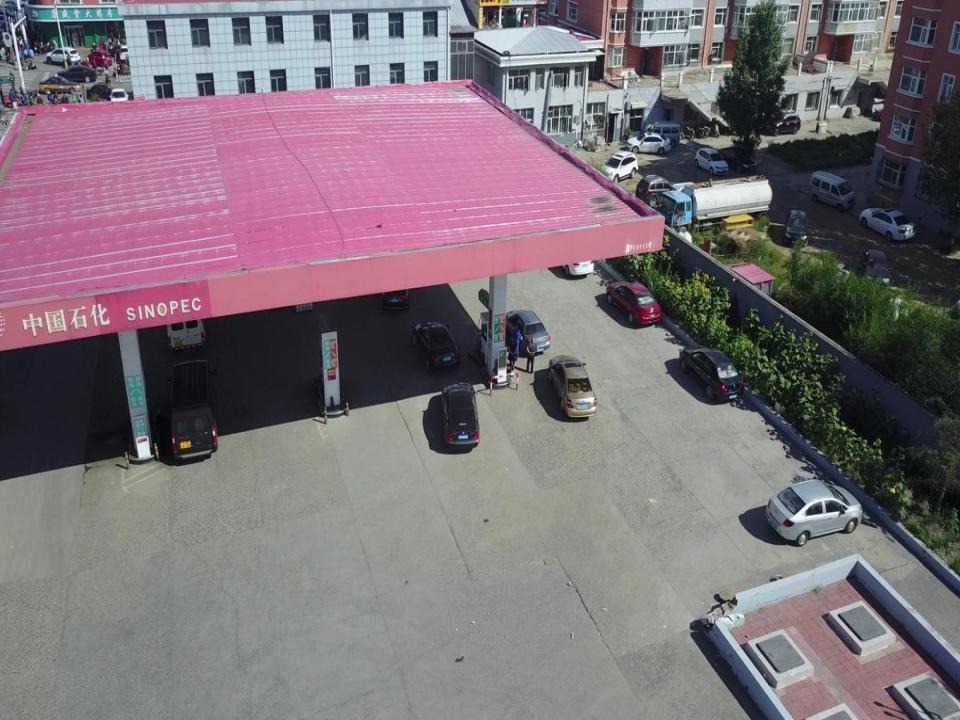car: (768, 480, 861, 542), (680, 343, 744, 399), (548, 355, 596, 419), (606, 282, 661, 326), (552, 220, 593, 279), (444, 383, 480, 450), (414, 319, 459, 372), (503, 308, 550, 352), (378, 250, 410, 312), (859, 207, 914, 242), (695, 146, 730, 176), (785, 207, 809, 249), (38, 74, 82, 94), (52, 66, 96, 84), (46, 48, 80, 67), (89, 79, 116, 100), (88, 47, 111, 70), (109, 85, 128, 108), (119, 40, 132, 63)
van: (168, 360, 216, 459), (162, 274, 202, 348), (809, 170, 853, 214), (657, 187, 693, 228), (637, 174, 677, 202), (642, 119, 680, 147)
